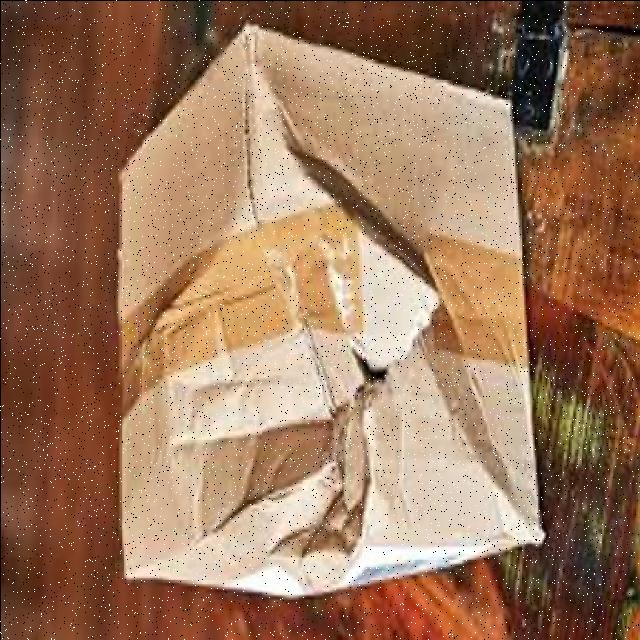defect: (113, 24, 532, 602)
